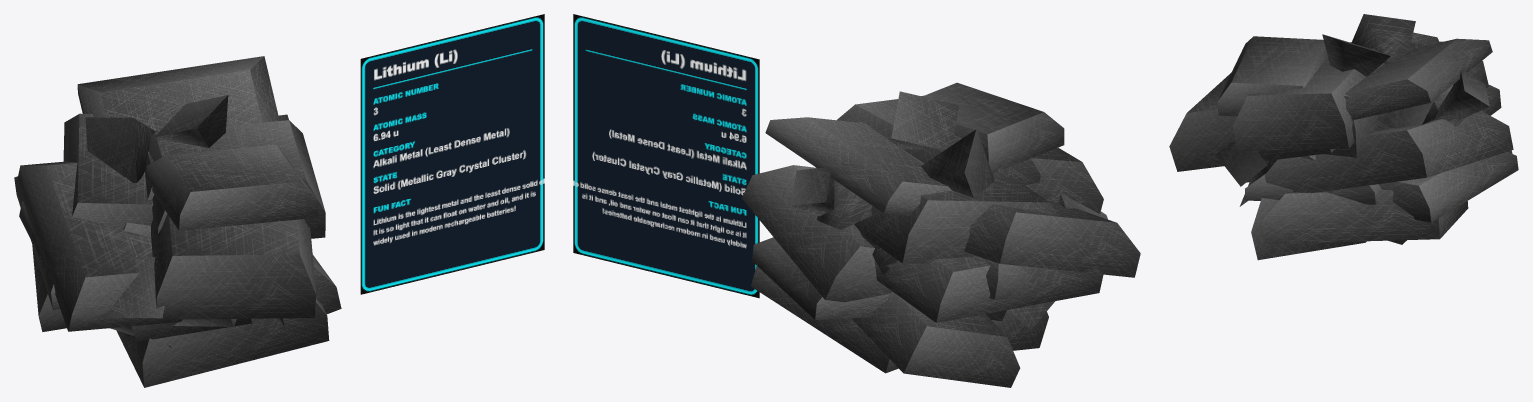
The model's file is lithium.glb.
The picture shows the model from 3 angles, left to right: view 1: azimuth 30°, elevation 25°; view 2: azimuth 150°, elevation 25°; view 3: azimuth 270°, elevation 25°; orthographic projection. The views are drawn at different scales.
Parts seen in each view (by area): view 1: Mesh_44, Mesh_12, Mesh_10, Mesh_17, Mesh_16, Mesh_0, Mesh_13, Mesh_15, Mesh_28, Mesh_25, Mesh_23, Mesh_6 (+4 smaller); view 2: Mesh_44, Mesh_10, Mesh_8, Mesh_2, Mesh_16, Mesh_9, Mesh_13, Mesh_17, Mesh_5, Mesh_25, Mesh_1, Mesh_12 (+8 smaller); view 3: Mesh_8, Mesh_15, Mesh_1, Mesh_16, Mesh_17, Mesh_5, Mesh_12, Mesh_28, Mesh_41, Mesh_0, Mesh_25, Mesh_4 (+5 smaller).
Boxes of the visible parts, x1,y1,x2,y2 form: Mesh_44: (360, 14, 544, 294); Mesh_12: (150, 214, 316, 319); Mesh_10: (16, 161, 182, 331); Mesh_17: (146, 144, 318, 230); Mesh_16: (77, 56, 279, 237); Mesh_0: (116, 299, 329, 387); Mesh_13: (63, 113, 153, 227); Mesh_15: (148, 120, 325, 238); Mesh_28: (85, 117, 156, 182); Mesh_25: (154, 95, 228, 147); Mesh_23: (99, 257, 164, 318); Mesh_6: (131, 318, 252, 341); Mesh_44: (573, 14, 759, 298); Mesh_10: (964, 202, 1140, 277); Mesh_8: (742, 165, 1006, 321); Mesh_2: (851, 292, 1020, 387); Mesh_16: (765, 117, 951, 215); Mesh_9: (874, 256, 1103, 322); Mesh_13: (854, 176, 1057, 263); Mesh_17: (922, 82, 1064, 173); Mesh_5: (752, 237, 889, 319); Mesh_25: (891, 91, 959, 150); Mesh_1: (751, 263, 898, 373); Mesh_12: (1026, 147, 1103, 213); Mesh_8: (1264, 111, 1513, 193); Mesh_15: (1232, 48, 1376, 151); Mesh_1: (1262, 189, 1468, 243); Mesh_16: (1345, 38, 1492, 120); Mesh_17: (1217, 36, 1327, 116); Mesh_5: (1378, 152, 1518, 222); Mesh_12: (1169, 72, 1335, 171); Mesh_28: (1351, 14, 1415, 63); Mesh_41: (1434, 69, 1489, 121); Mesh_0: (1251, 198, 1366, 260); Mesh_25: (1322, 34, 1390, 76); Mesh_4: (1245, 174, 1381, 204).
Size of the model in its own units: 3.03 by 1.38 by 2.01.
Materials: 2 (2 with a texture image).
